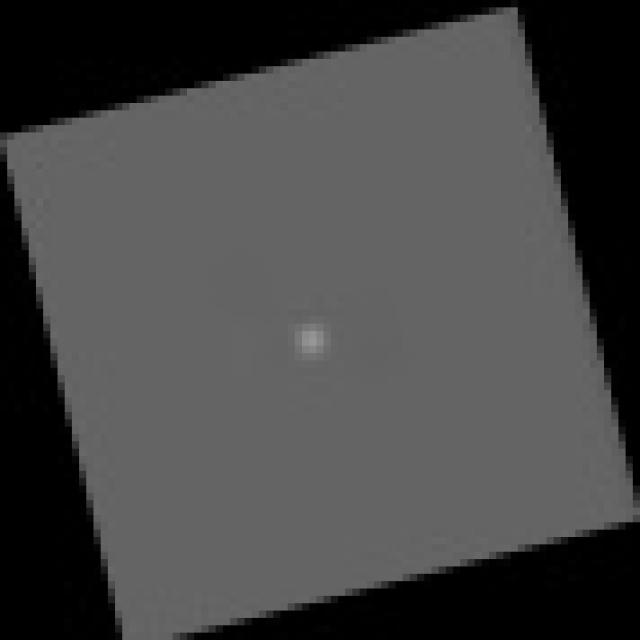Defect1: (251, 285, 384, 415)
